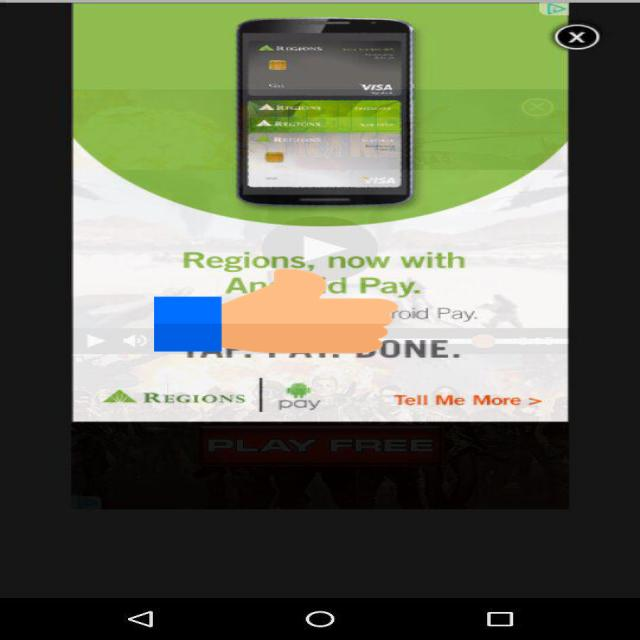privacy zuckering: (154, 267, 398, 355)
